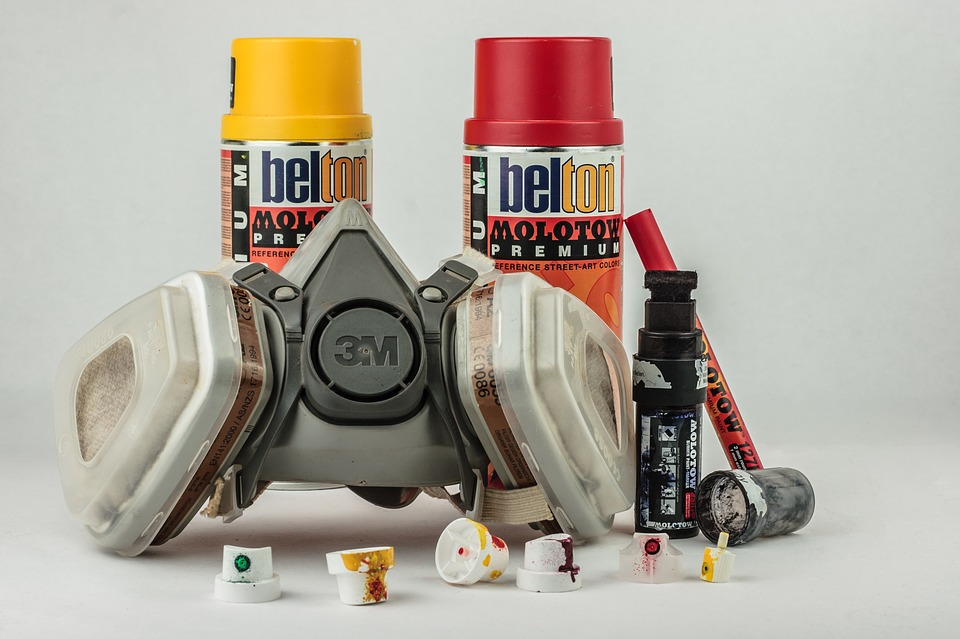Aerosol_cans: (457, 32, 631, 344), (216, 31, 381, 269)
